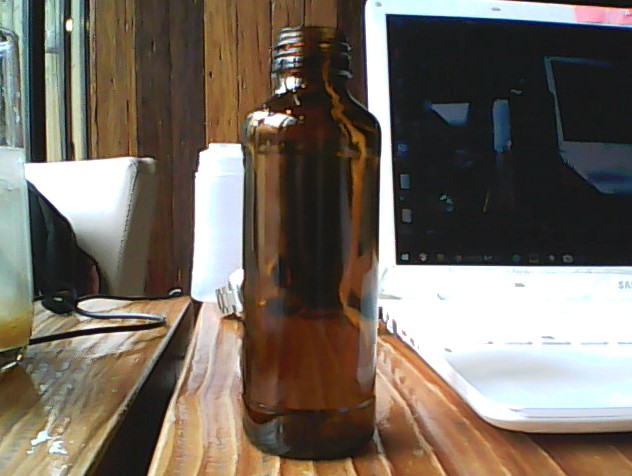Glass: (239, 21, 381, 464)
